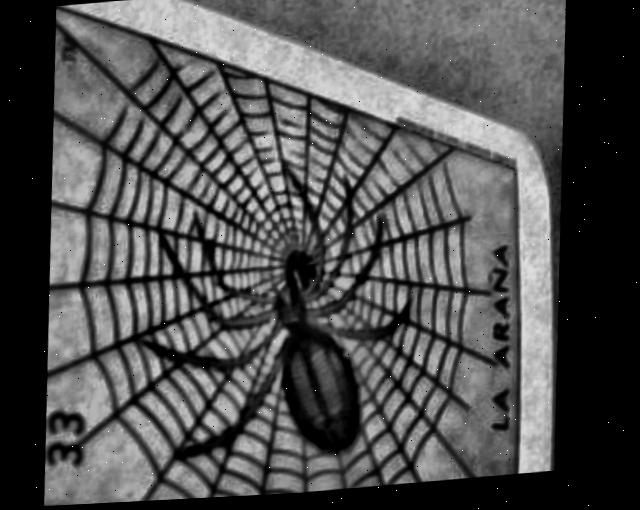La Botella: (52, 7, 523, 507)
